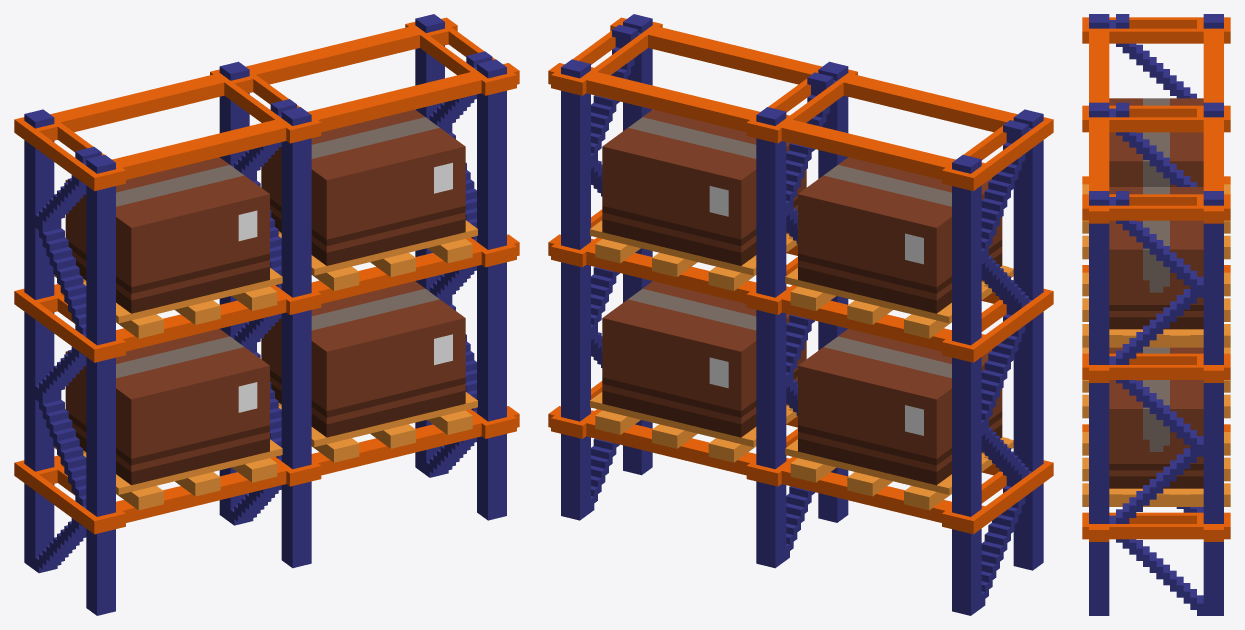
Rendered from estoque2.2.obj.
3 views of the same model, side by side, from view 1: azimuth 30°, elevation 25°; view 2: azimuth 150°, elevation 25°; view 3: azimuth 270°, elevation 25° (orthographic). The views are drawn at different scales.
Bounding box in the file's own units: 6.8 × 6.8 × 2.2.
1 material, 1 textured.
